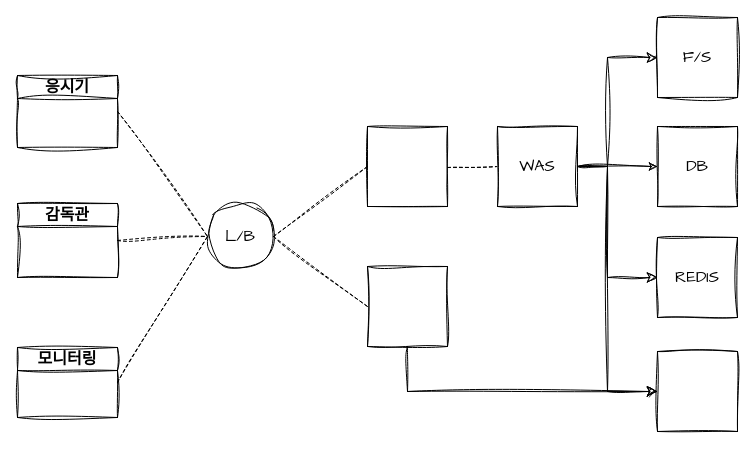
Image size: 755x449. Some labels were removed from this diagram. The shapes that lost their labels are listed below. From the top down, each one's box as (x1, y1, x2, y2) in pixels, then its label:
(366, 126, 448, 206): W/S
(366, 266, 448, 346): SOCKET
(656, 350, 738, 432): Q/S
